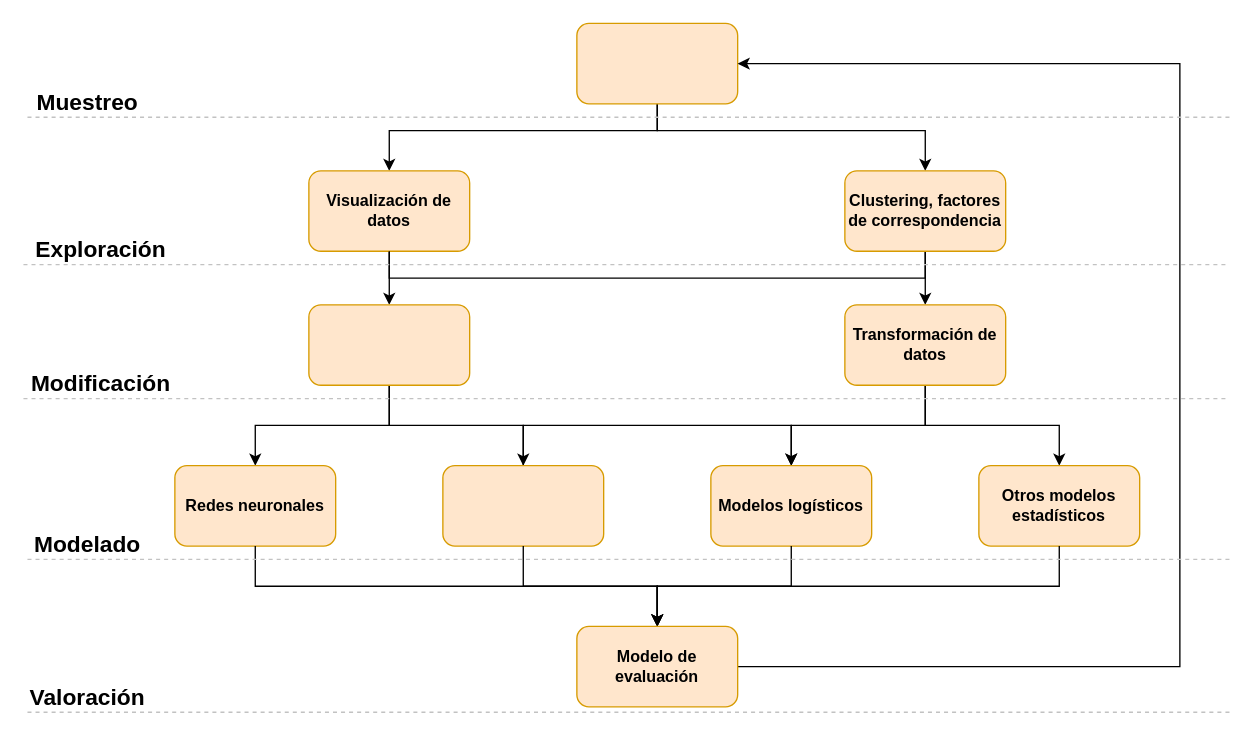
Some shapes in this 1258 by 737 pixel diagram are drawn without their labels. Here are the shapes that lost their labels. From the top down, the centre of each, then its label:
At point (657, 63): "Muestreo SI / NO".
At point (389, 344): "Selección y creación de variables".
At point (523, 505): "Modelos basados en árboles".
